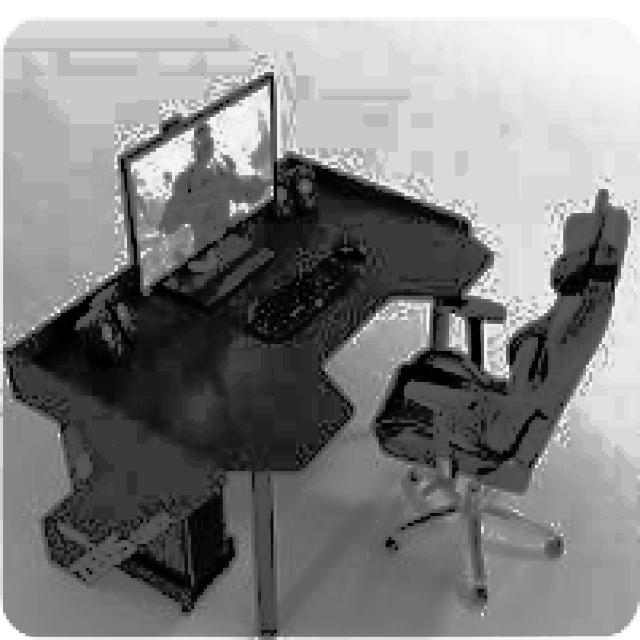book: (370, 186, 628, 602)
table: (3, 148, 494, 633)
